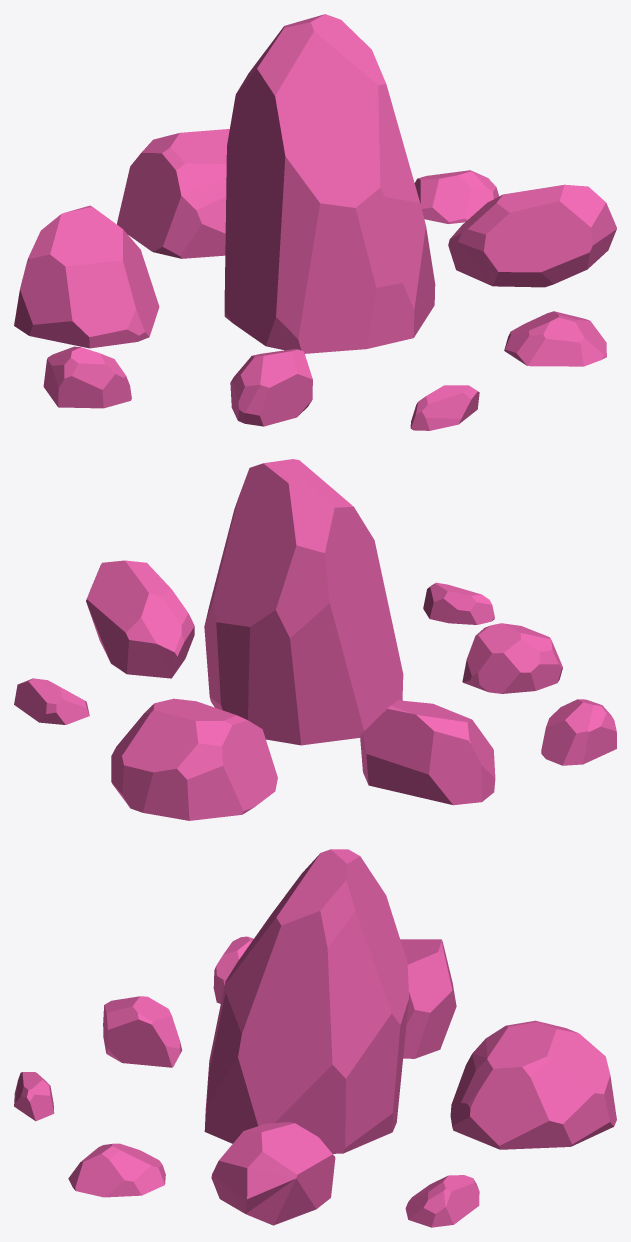
Rendered from rocks.glb.
The picture shows the model from 3 angles, top to bottom: view 1: azimuth 30°, elevation 25°; view 2: azimuth 150°, elevation 25°; view 3: azimuth 270°, elevation 25°; orthographic projection. The views are drawn at different scales.
Parts seen in each view (by area): view 1: Cube.001; view 2: Cube.001; view 3: Cube.001.
Part boxes in pixels (box(x1,y1,x2,y2)): Cube.001: box(14, 14, 616, 430); Cube.001: box(14, 459, 616, 820); Cube.001: box(14, 849, 616, 1227).
Size of the model in its own units: 2 by 0.9428 by 1.93.
